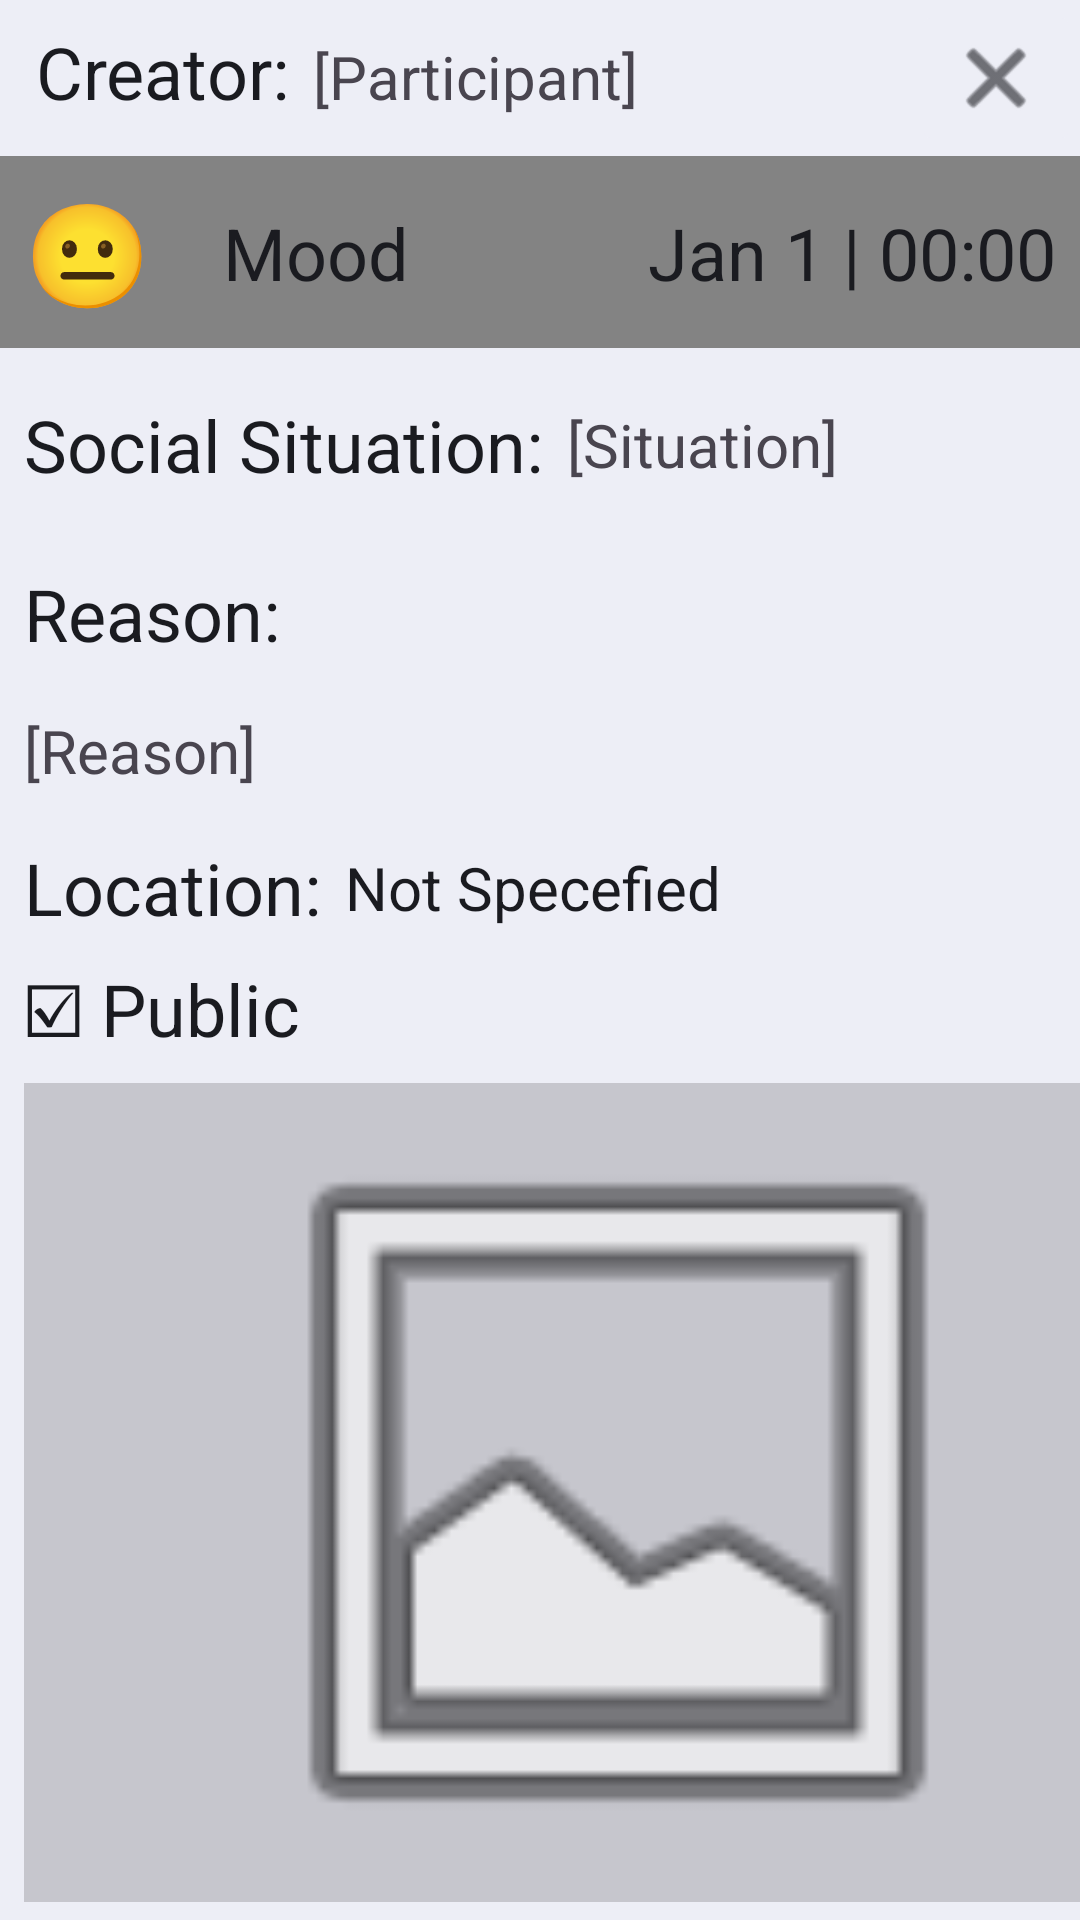

Icons on this 1080px×1920px Android screen, each with the point to tap as [x,y]:
close clear cancel: [996,78]
